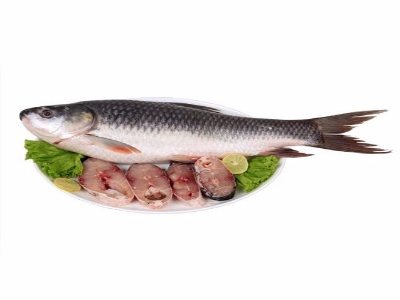rohu: (15, 84, 395, 164)
